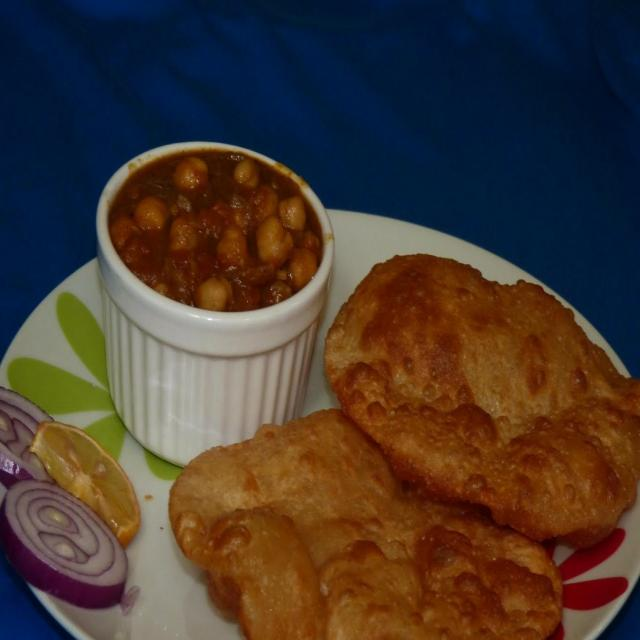Bhatura: (321, 249, 640, 546), (169, 405, 562, 640)
